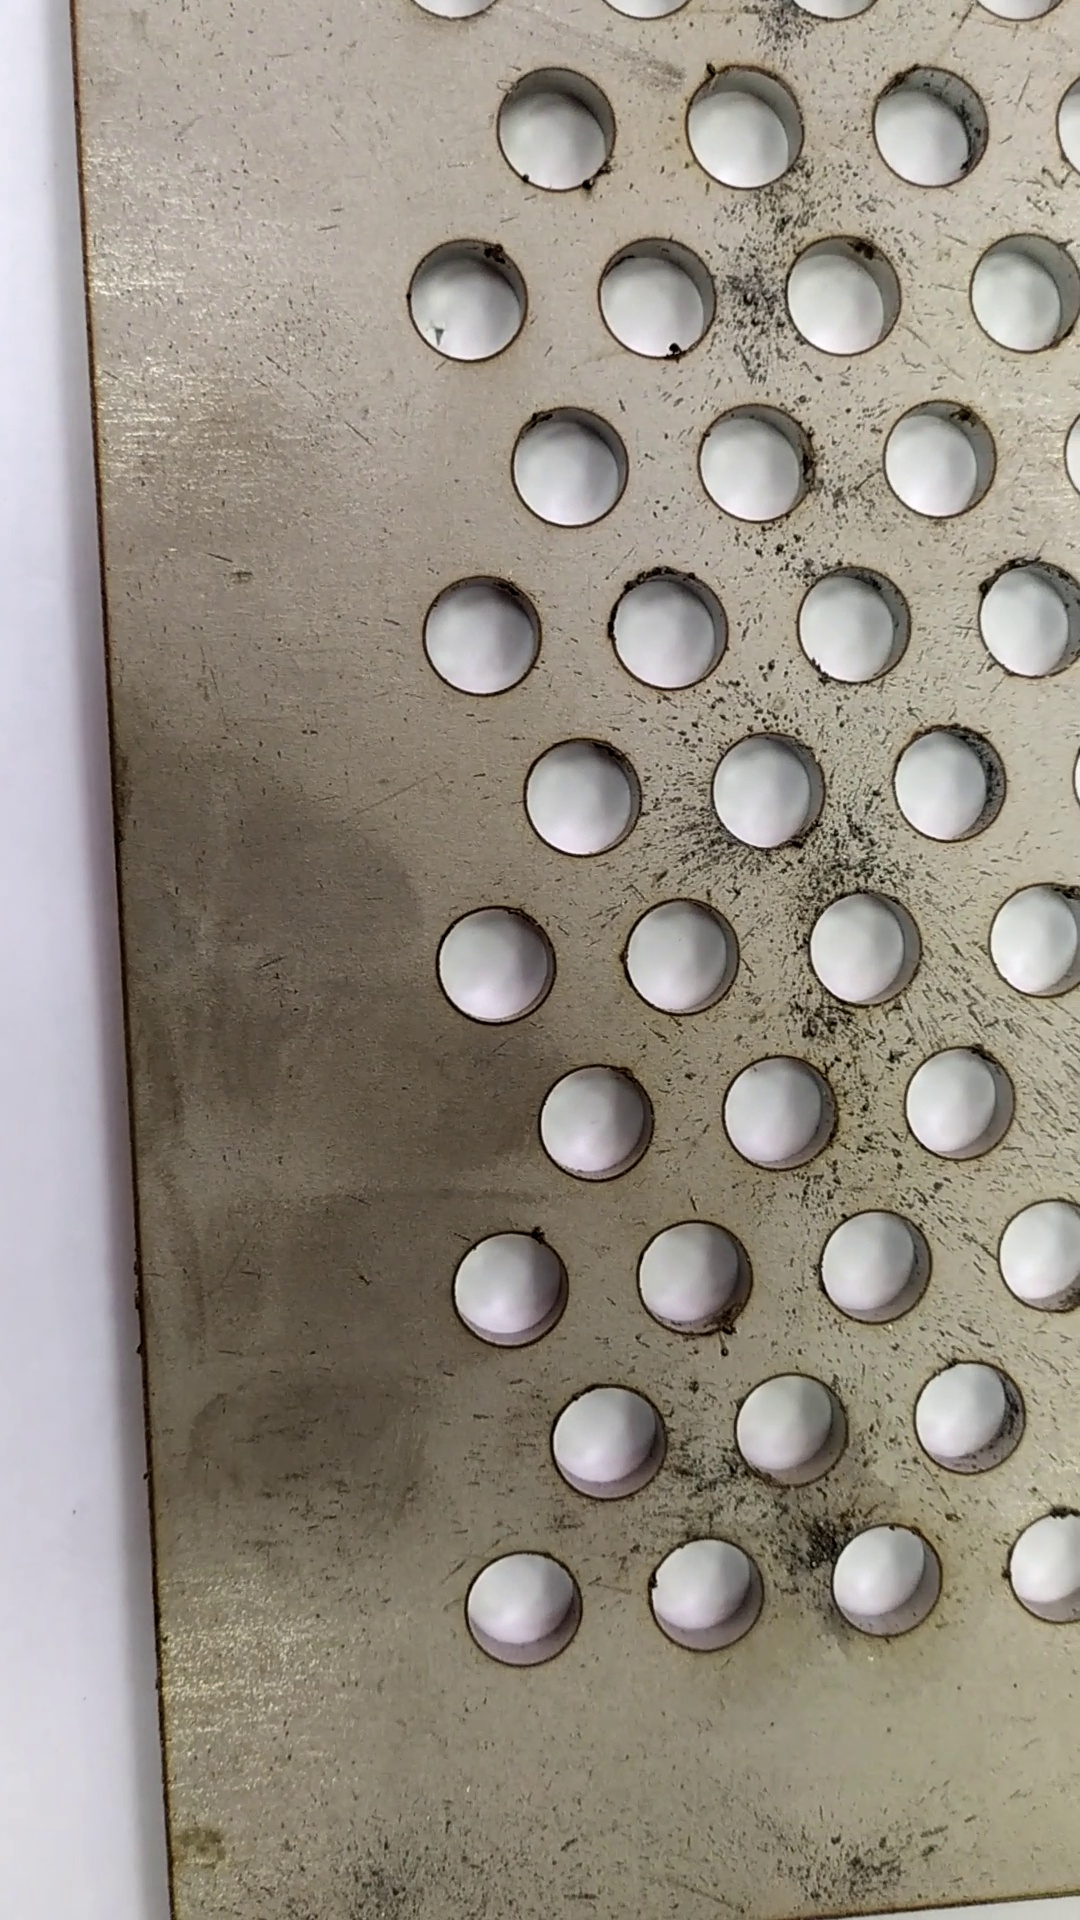Hole: (402, 558, 555, 709), (483, 51, 630, 207), (447, 1534, 603, 1681), (592, 553, 741, 705), (866, 382, 1011, 538), (858, 54, 1007, 200), (669, 50, 822, 193), (495, 393, 649, 534), (522, 1056, 679, 1191), (869, 717, 1022, 855), (781, 550, 926, 694), (640, 1522, 779, 1669), (626, 1209, 771, 1350), (438, 1222, 587, 1360), (603, 884, 745, 1026), (773, 222, 916, 363), (389, 232, 535, 367), (587, 220, 724, 363), (510, 731, 657, 864), (698, 724, 837, 862), (899, 1344, 1040, 1481), (425, 895, 563, 1034), (794, 1199, 943, 1327), (687, 393, 824, 530), (716, 1038, 843, 1179), (723, 1367, 861, 1495), (541, 1375, 676, 1505), (825, 1513, 951, 1652), (887, 1036, 1022, 1166), (800, 880, 918, 1011)
